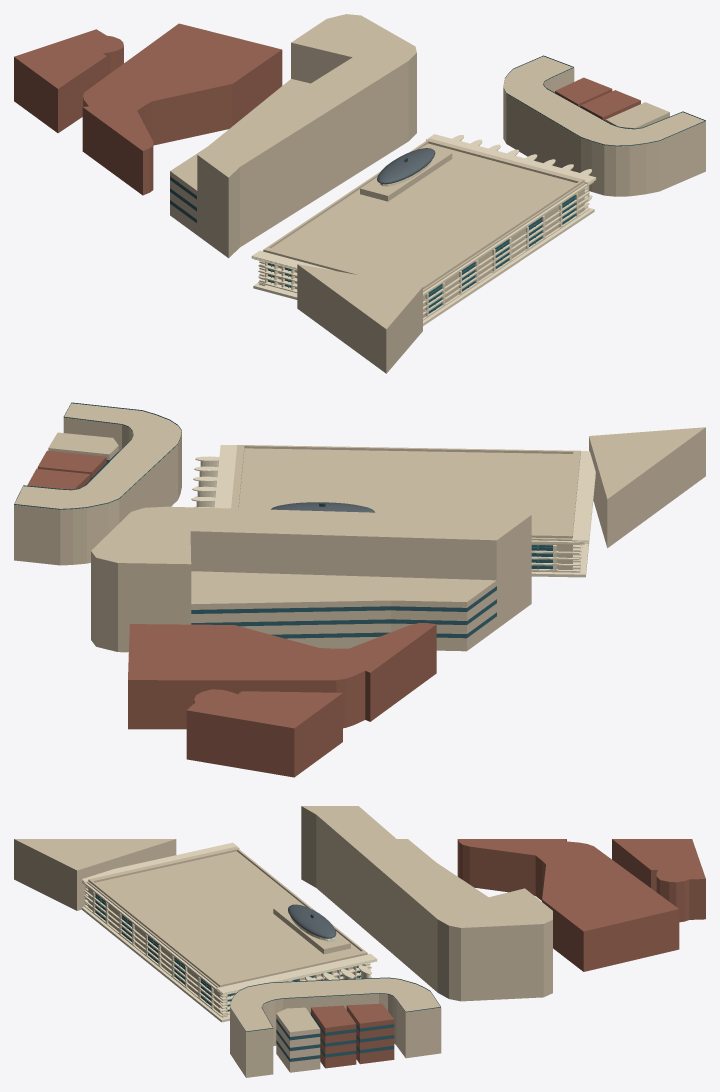
Rendered from city_-4_3.glb.
The picture shows the model from 3 angles, top to bottom: view 1: azimuth 30°, elevation 25°; view 2: azimuth 150°, elevation 25°; view 3: azimuth 270°, elevation 25°; orthographic projection. The views are drawn at different scales.
Parts seen in each view (by area): view 1: city_-4_3; view 2: city_-4_3; view 3: city_-4_3.
Part boxes in pixels (left/top/right/bottom): city_-4_3: left=14, top=14, right=705, bottom=373; city_-4_3: left=14, top=402, right=705, bottom=777; city_-4_3: left=14, top=806, right=705, bottom=1077.
Size of the model in its own units: 163 by 27.2 by 232.
